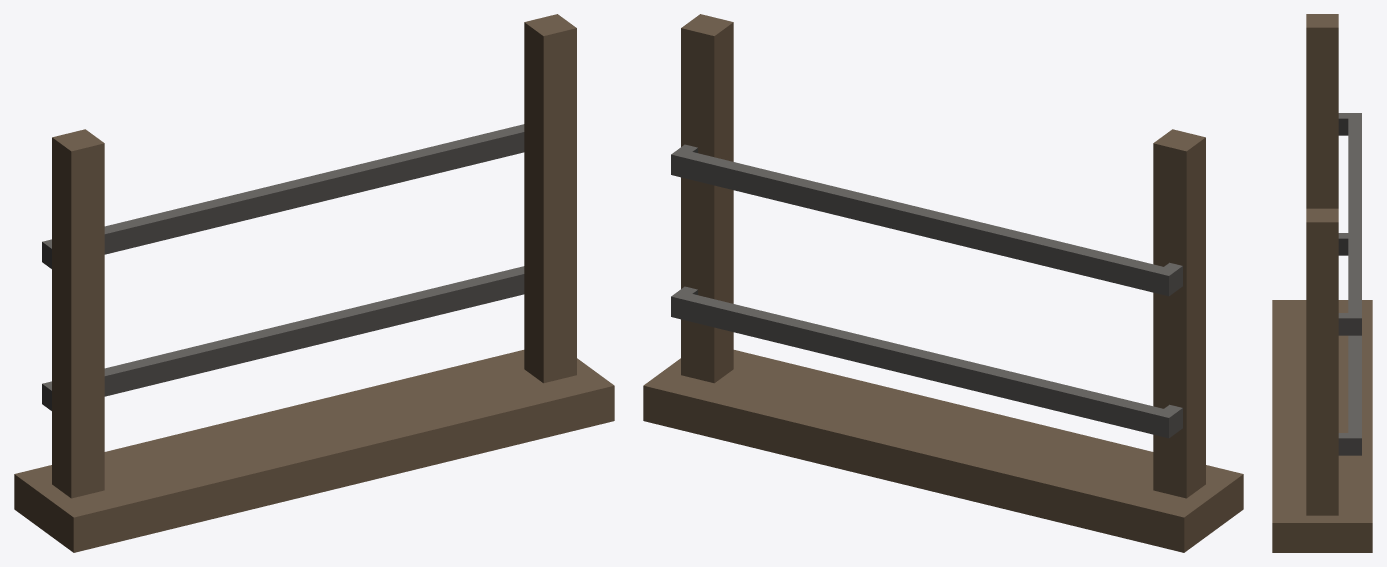
Rendered from SD_Prop_WeaponRack_01.fbx.
3 renders of one model, left to right at view 1: azimuth 30°, elevation 25°; view 2: azimuth 150°, elevation 25°; view 3: azimuth 270°, elevation 25°, orthographic. The views are drawn at different scales.
Visible parts, largest first — view 1: SD_Prop_WeaponRack_01; view 2: SD_Prop_WeaponRack_01; view 3: SD_Prop_WeaponRack_01.
Boxes of the visible parts, x1,y1,x2,y2 form: SD_Prop_WeaponRack_01: (14,14,614,552); SD_Prop_WeaponRack_01: (643,14,1243,552); SD_Prop_WeaponRack_01: (1272,14,1372,552).
Bounding box in the file's own units: 3.33 × 2.25 × 0.6346.
